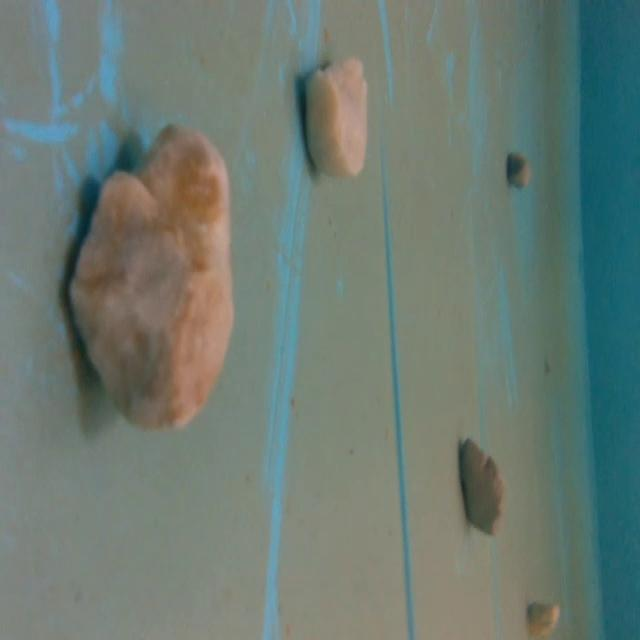rock: (60, 116, 247, 438), (296, 48, 375, 183), (455, 430, 508, 540), (523, 594, 561, 638), (501, 146, 534, 194)
